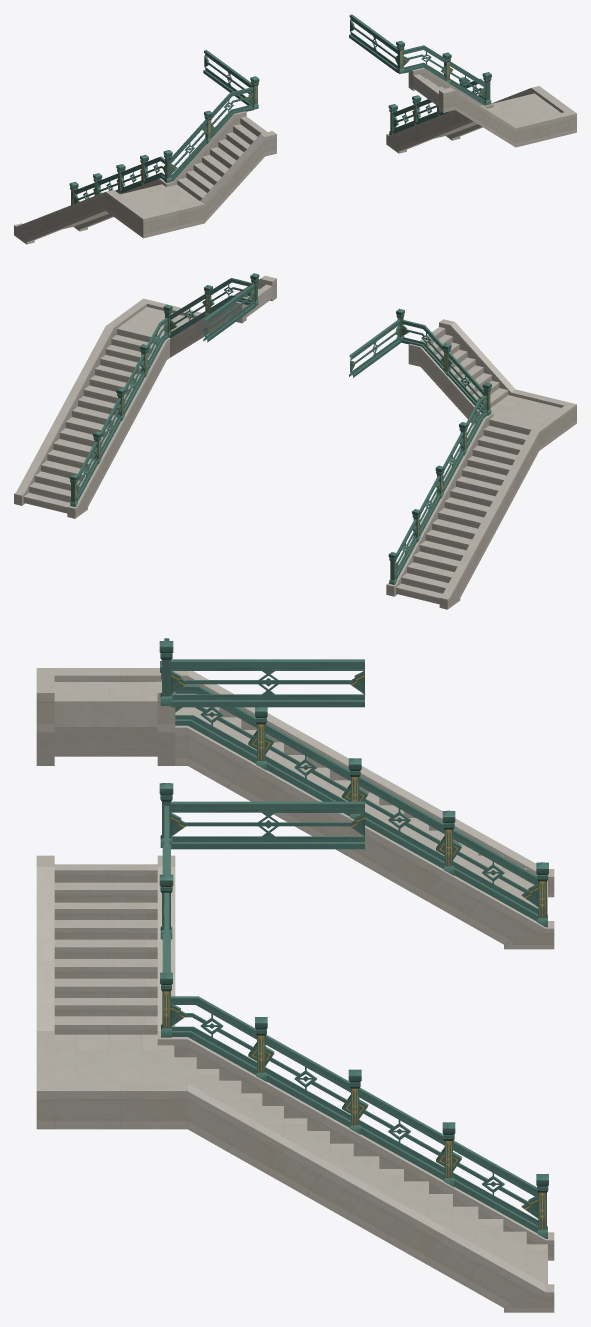
The model's file is Homeworld_Interior_Fd_Room_D_Stair_01_Vo.fbx.
3 renders of one model, top to bottom at view 1: azimuth 30°, elevation 25°; view 2: azimuth 150°, elevation 25°; view 3: azimuth 270°, elevation 25°, orthographic. The views are drawn at different scales.
Visible parts, largest first — view 1: Homeworld_Interior_Fd_Room_D_Stair_01_Vo; view 2: Homeworld_Interior_Fd_Room_D_Stair_01_Vo; view 3: Homeworld_Interior_Fd_Room_D_Stair_01_Vo.
Part boxes in pixels (<box>): Homeworld_Interior_Fd_Room_D_Stair_01_Vo: <box>14,14,576,244</box>; Homeworld_Interior_Fd_Room_D_Stair_01_Vo: <box>14,273,576,609</box>; Homeworld_Interior_Fd_Room_D_Stair_01_Vo: <box>36,638,554,1312</box>.
Size of the model in its own units: 14.71 by 6.31 by 7.6.
